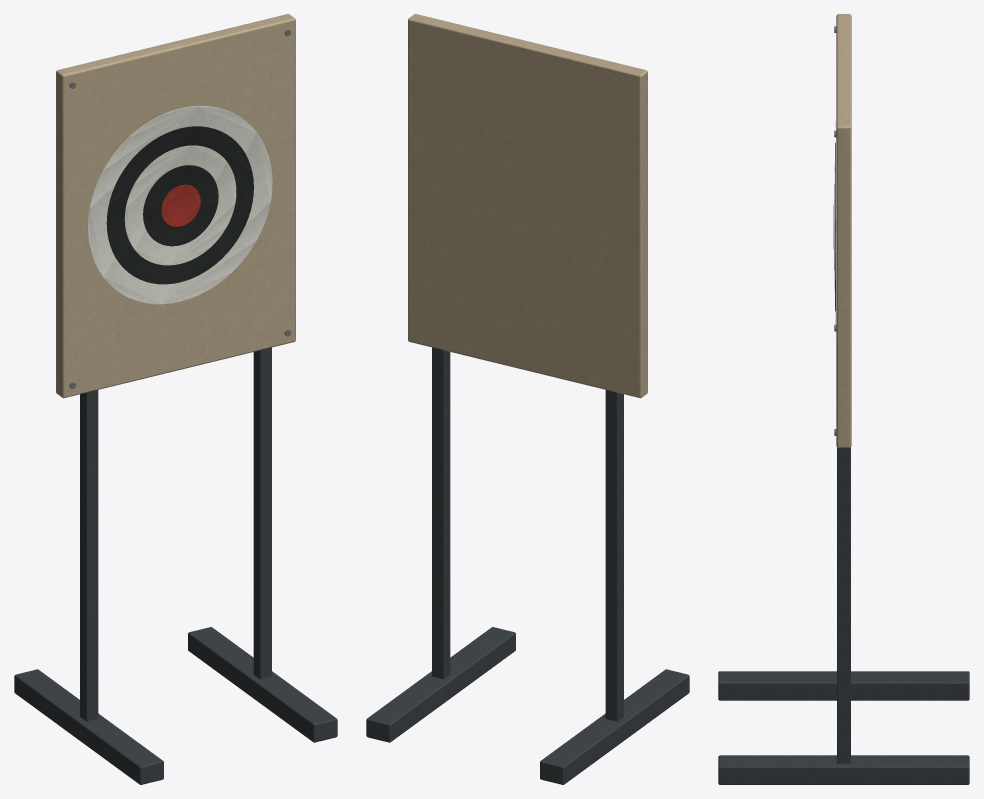
File: range-target.glb
The picture shows the model from 3 angles, left to right: view 1: azimuth 30°, elevation 25°; view 2: azimuth 150°, elevation 25°; view 3: azimuth 270°, elevation 25°; orthographic projection.
Parts seen in each view (by area): view 1: range-target__body; view 2: range-target__body; view 3: range-target__body.
Part boxes in pixels (x1,y1,x2,y2): range-target__body: [14, 14, 337, 784]; range-target__body: [366, 14, 689, 784]; range-target__body: [718, 14, 969, 784].
Size of the model in its own units: 0.62 by 1.7 by 0.58.
6 materials, 6 textured.
